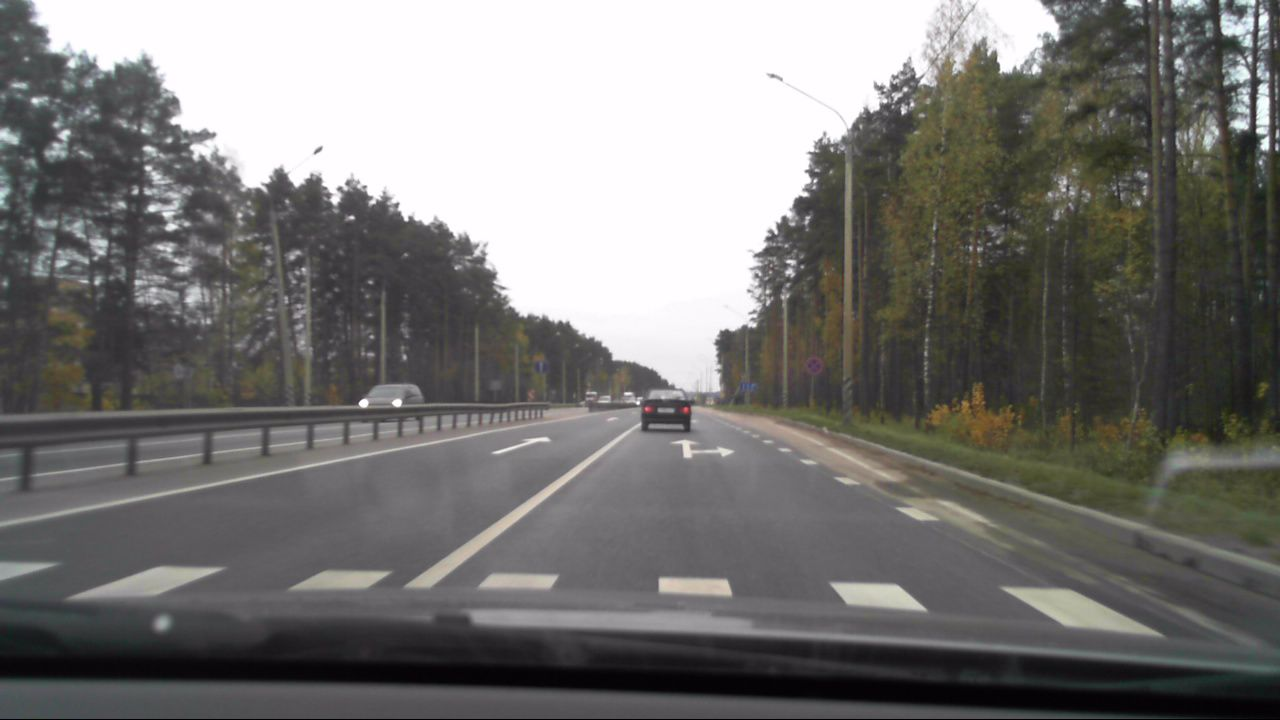No Parking: (803, 354, 825, 376)
